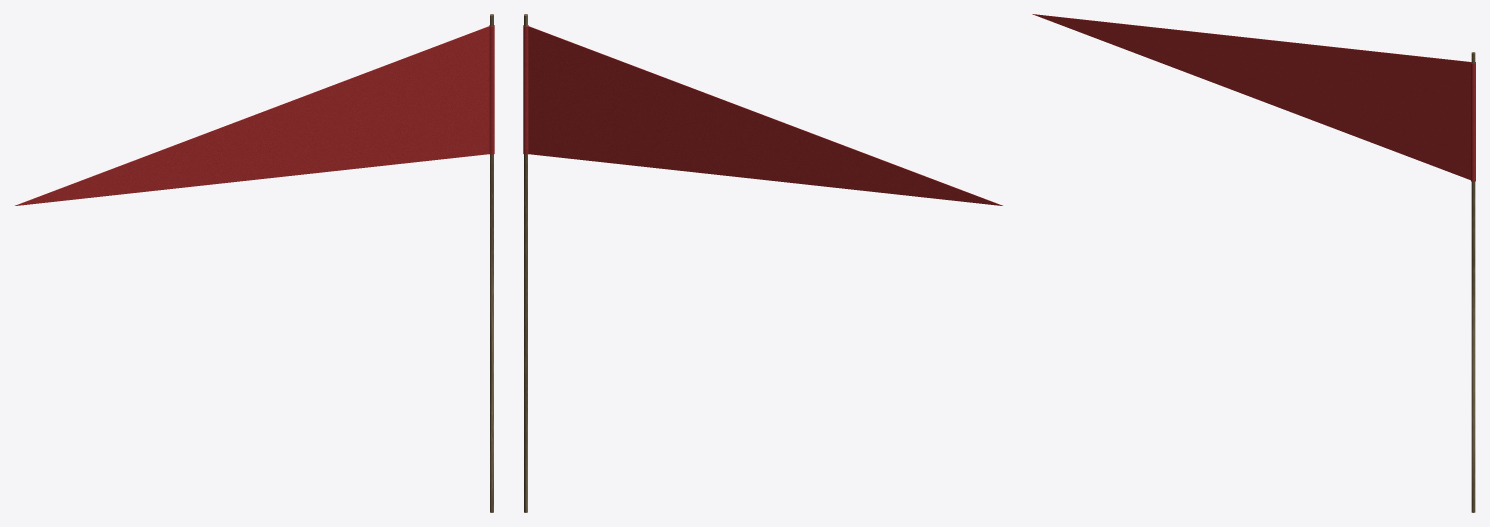
The model's file is flag.glb.
3 renders of one model, left to right at view 1: azimuth 30°, elevation 25°; view 2: azimuth 150°, elevation 25°; view 3: azimuth 330°, elevation 25°, orthographic. The views are drawn at different scales.
Parts seen in each view (by area): view 1: Flag.1; view 2: Flag.1; view 3: Flag.1.
Part boxes in pixels (x1=…): Flag.1: x1=15, y1=14, x2=494, y2=512; Flag.1: x1=523, y1=14, x2=1002, y2=512; Flag.1: x1=1032, y1=14, x2=1475, y2=512.
Size of the model in its own units: 7078 by 7000 by 69.28.
Materials: 1 (1 with a texture image).
